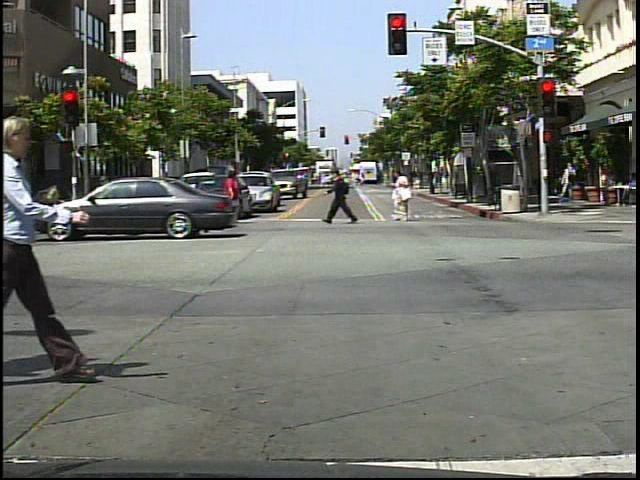person: (330, 160, 362, 231), (386, 163, 418, 227), (215, 167, 248, 227), (559, 159, 578, 203)
